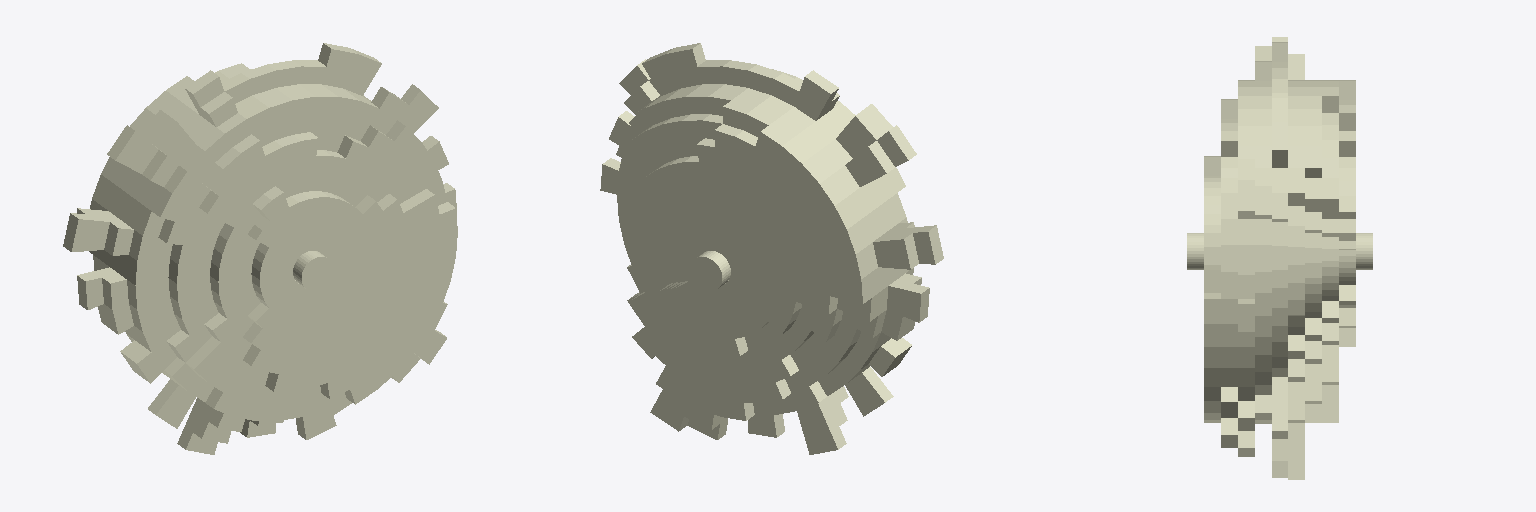
3 renders of one model, left to right at view 1: azimuth 30°, elevation 25°; view 2: azimuth 150°, elevation 25°; view 3: azimuth 270°, elevation 25°, orthographic.
Parts seen in each view (by area): view 1: sp-COM-___1-163672-Default_Material; view 2: sp-COM-___1-163672-Default_Material; view 3: sp-COM-___1-163672-Default_Material.
Part boxes in pixels (left/top/right/bottom): sp-COM-___1-163672-Default_Material: left=63, top=43, right=457, bottom=454; sp-COM-___1-163672-Default_Material: left=600, top=43, right=943, bottom=454; sp-COM-___1-163672-Default_Material: left=1187, top=37, right=1372, bottom=479.
Size of the model in its own units: 238 by 243 by 106.